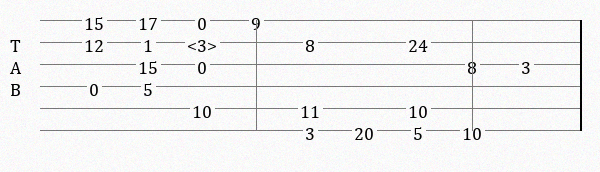0: (89, 78, 103, 94), (197, 12, 211, 28), (197, 56, 211, 72)
1: (143, 34, 157, 50)
10: (192, 100, 216, 116), (408, 100, 432, 116), (462, 122, 486, 138)
11: (300, 100, 324, 116)
12: (84, 34, 108, 50)
15: (84, 12, 108, 29), (138, 56, 162, 73)
17: (138, 12, 162, 29)
20: (354, 122, 378, 138)
24: (408, 34, 432, 50)
3: (305, 122, 319, 138), (521, 56, 535, 72)
5: (143, 78, 157, 95), (413, 122, 427, 139)
8: (305, 34, 319, 50), (467, 56, 481, 72)
9: (251, 12, 265, 28)
harmonic: (187, 34, 221, 50)
